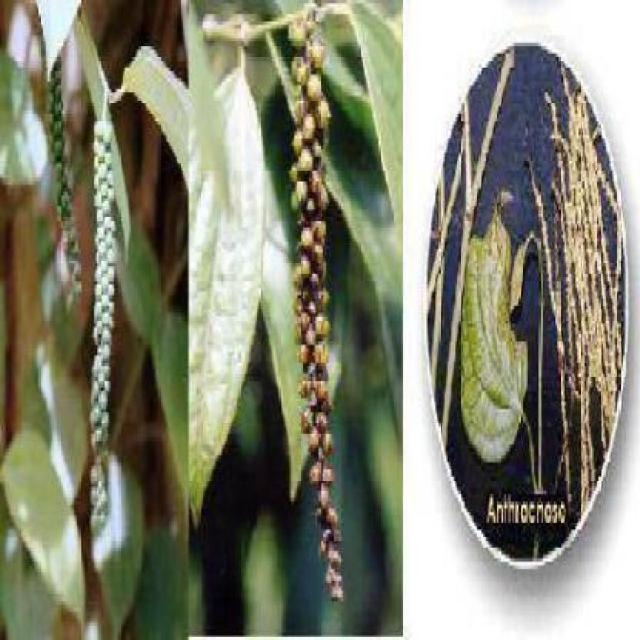UNRIPE: (89, 114, 114, 534), (46, 25, 80, 296)
